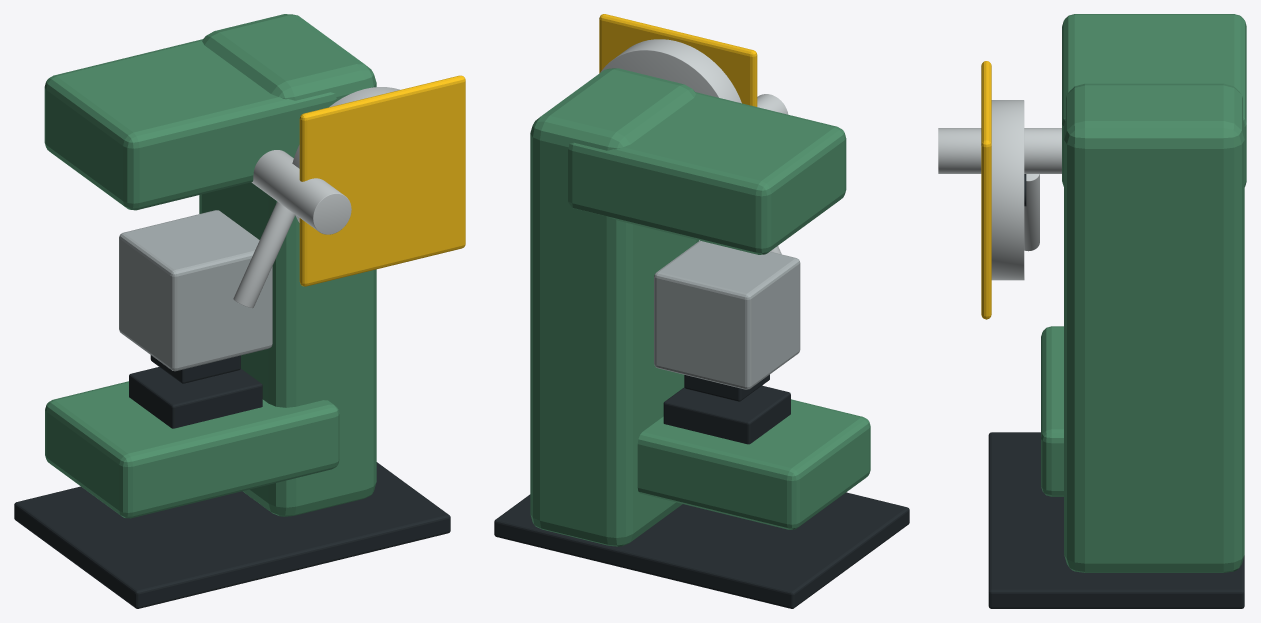
The model's file is mechanical_gap_frame_press.glb.
The picture shows the model from 3 angles, left to right: view 1: azimuth 30°, elevation 25°; view 2: azimuth 150°, elevation 25°; view 3: azimuth 270°, elevation 25°; orthographic projection. The views are drawn at different scales.
Parts seen in each view (by area): view 1: CAST_GAP_FRAME, CROWN, MACHINE_BASE, FLYWHEEL_GUARD, PRESS_BED, KIN_SLIDE, DIE, CRANKSHAFT, CONNECTING_ROD, PUNCH, KIN_FLYWHEEL; view 2: CAST_GAP_FRAME, CROWN, MACHINE_BASE, PRESS_BED, KIN_SLIDE, DIE, FLYWHEEL_GUARD, KIN_FLYWHEEL, PUNCH; view 3: CAST_GAP_FRAME, MACHINE_BASE, CROWN, KIN_FLYWHEEL, PRESS_BED, CRANKSHAFT, FLYWHEEL_GUARD, CONNECTING_ROD.
Boxes of the visible parts, left/top/right/bottom form: CAST_GAP_FRAME: left=199, top=14, right=376, bottom=516; CROWN: left=44, top=39, right=336, bottom=210; MACHINE_BASE: left=14, top=462, right=450, bottom=608; FLYWHEEL_GUARD: left=299, top=75, right=465, bottom=286; PRESS_BED: left=45, top=381, right=339, bottom=518; KIN_SLIDE: left=119, top=210, right=272, bottom=371; DIE: left=129, top=367, right=262, bottom=428; CRANKSHAFT: left=251, top=150, right=351, bottom=234; CONNECTING_ROD: left=233, top=201, right=295, bottom=308; PUNCH: left=150, top=355, right=240, bottom=383; KIN_FLYWHEEL: left=292, top=87, right=400, bottom=222; CAST_GAP_FRAME: left=530, top=68, right=698, bottom=546; CROWN: left=568, top=92, right=846, bottom=254; MACHINE_BASE: left=494, top=492, right=909, bottom=608; PRESS_BED: left=637, top=399, right=870, bottom=529; KIN_SLIDE: left=654, top=240, right=800, bottom=389; DIE: left=663, top=385, right=790, bottom=444; FLYWHEEL_GUARD: left=599, top=14, right=757, bottom=106; KIN_FLYWHEEL: left=600, top=39, right=741, bottom=103; PUNCH: left=684, top=374, right=769, bottom=401; CAST_GAP_FRAME: left=1064, top=83, right=1244, bottom=572; MACHINE_BASE: left=988, top=432, right=1244, bottom=608; CROWN: left=1062, top=14, right=1246, bottom=186; KIN_FLYWHEEL: left=991, top=100, right=1024, bottom=280; PRESS_BED: left=1041, top=326, right=1063, bottom=496; CRANKSHAFT: left=938, top=128, right=1061, bottom=173; FLYWHEEL_GUARD: left=981, top=61, right=991, bottom=319; CONNECTING_ROD: left=1024, top=174, right=1039, bottom=251.
Bounding box in the file's own units: 1.87 × 2.49 × 1.47.
